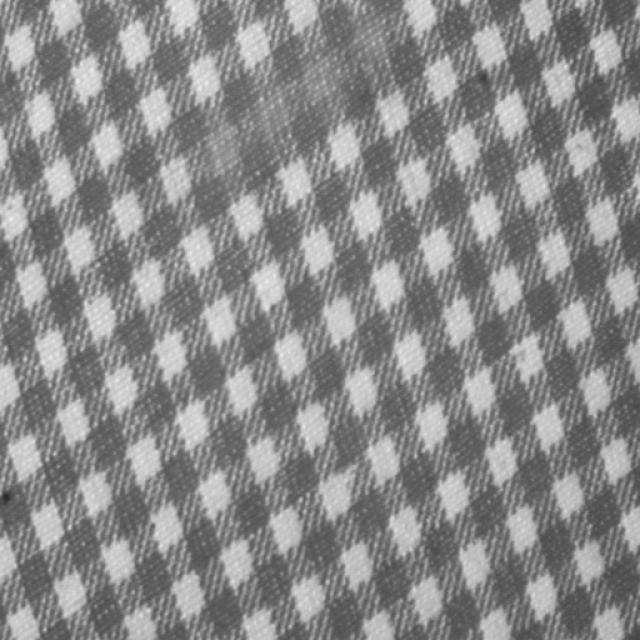Stain-Defect: (200, 26, 398, 186)
